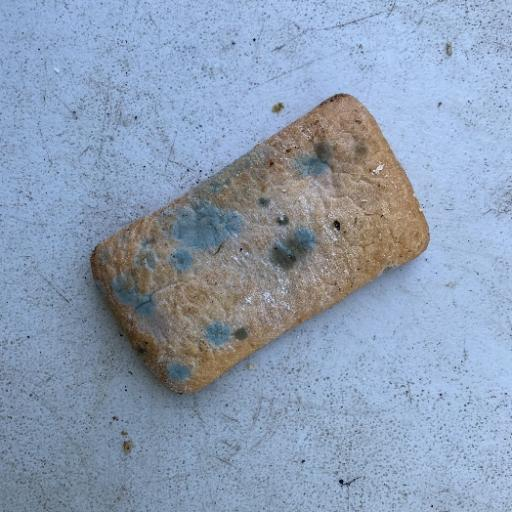Waste: (88, 91, 431, 395)
